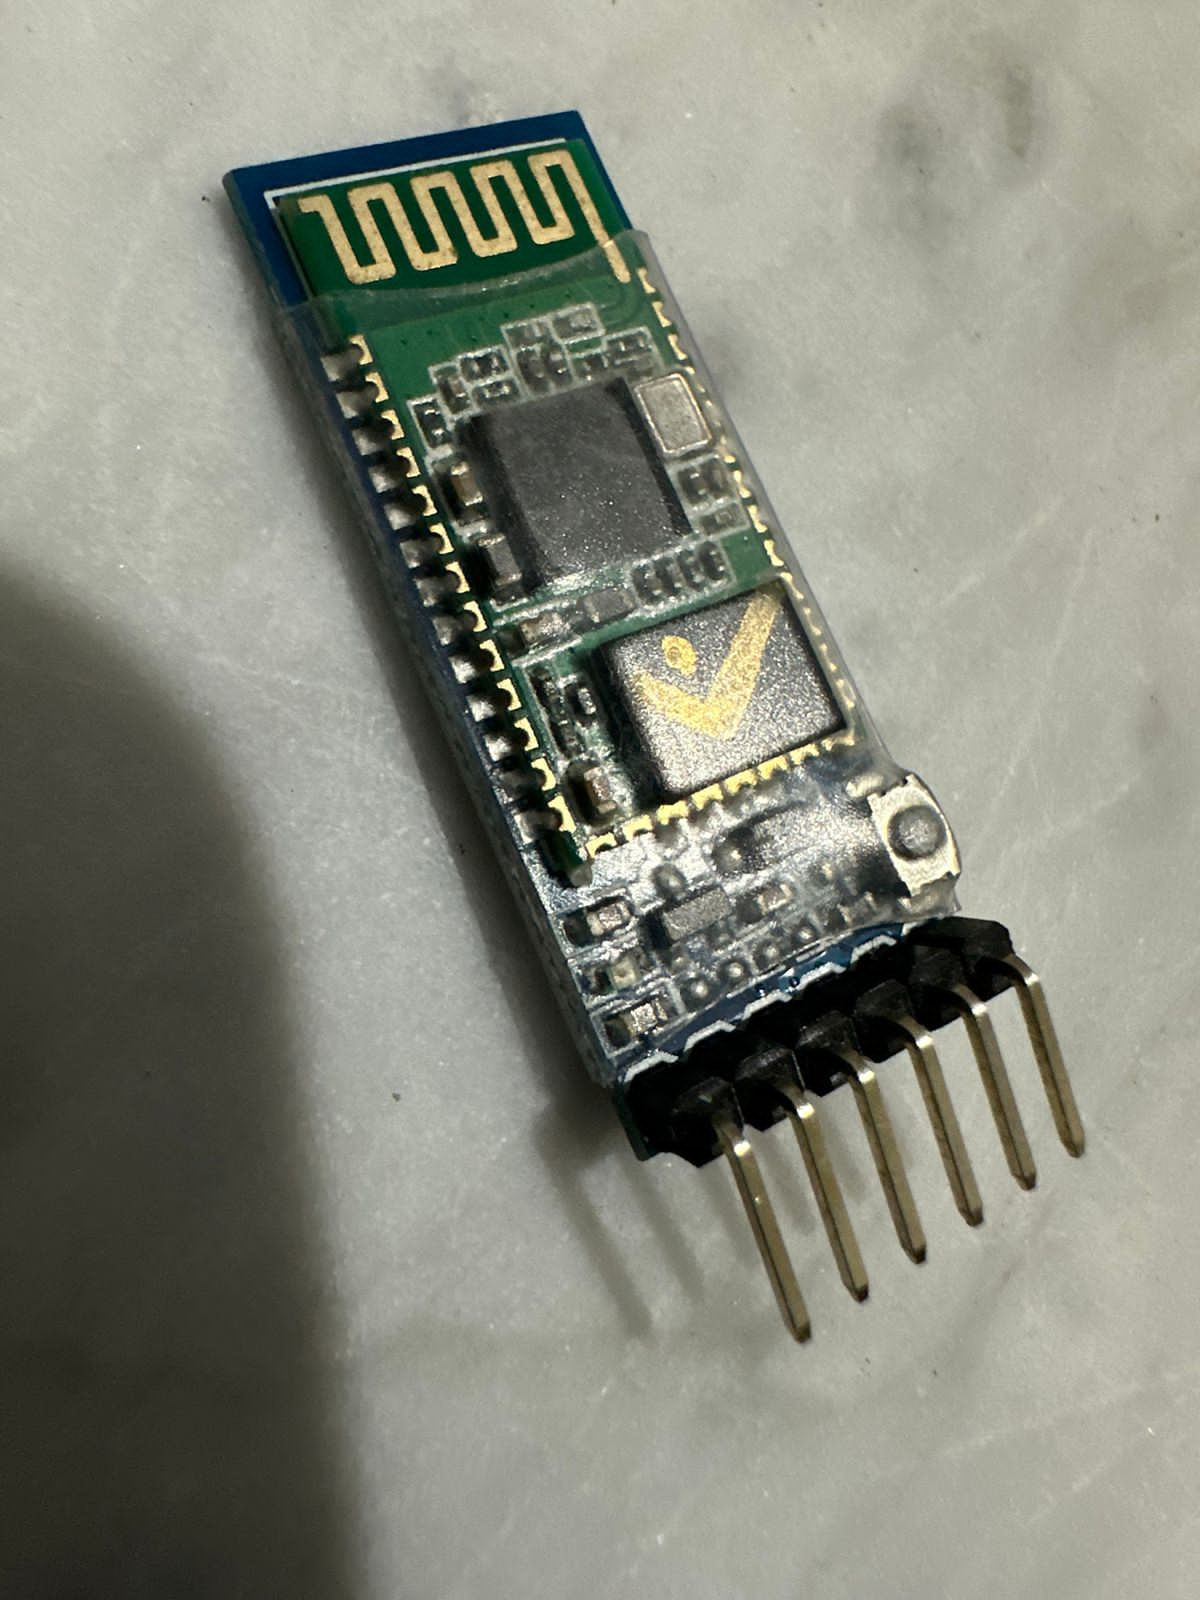module-bluetooth: (198, 93, 1116, 1348)
